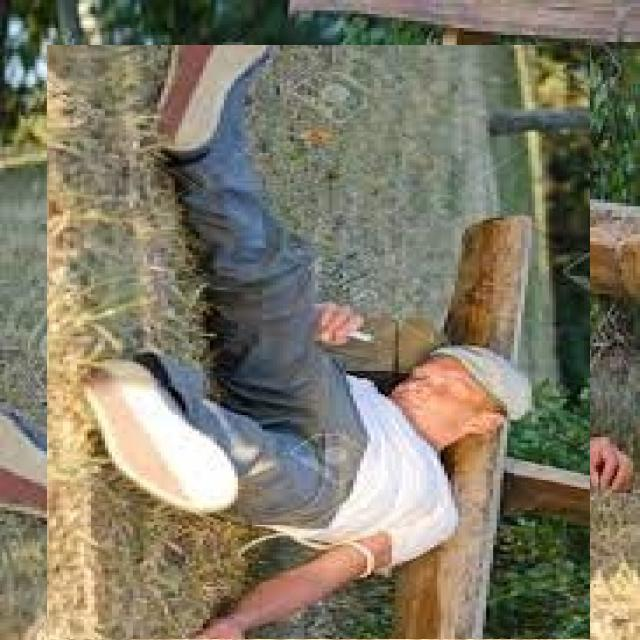Fall: (60, 47, 536, 636)
